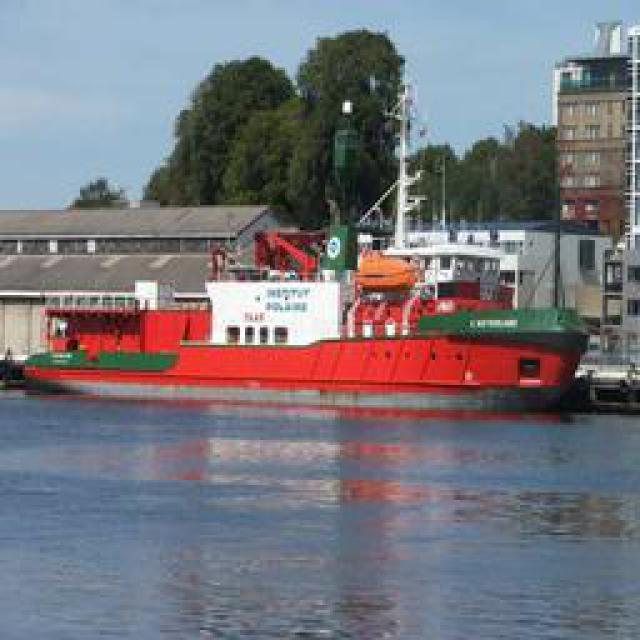Ship: (29, 258, 599, 403)
